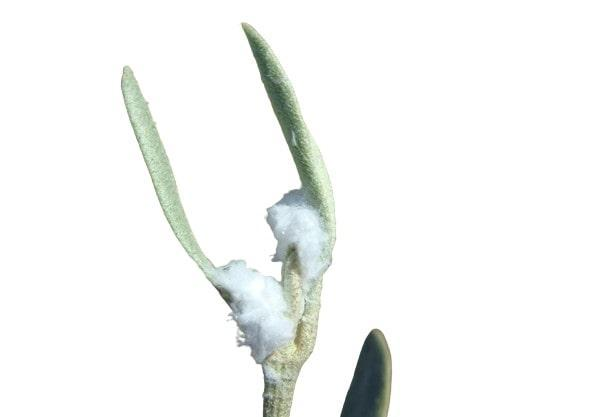Psyllid: (204, 183, 340, 388)
